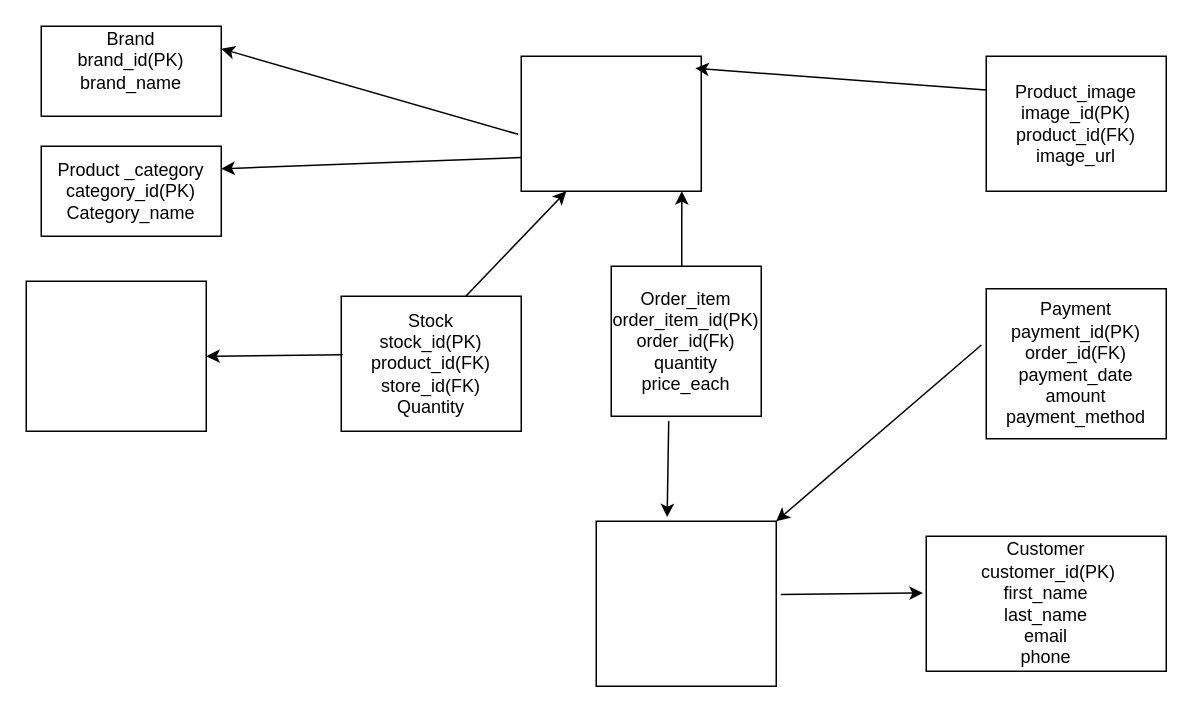
This 1193x713 diagram has some shape labels left out. The centre of each missing label's shape, as x and y in pixels:
"Orders order_id(PK) customer_id(FK) order_date total_amount" goes at point 685,603.
"Product Product _id(PK) name brand_id(Fk) category_id(FK) base_price" goes at point 610,123.
"Store store_id(PK) store_name location" goes at point 115,355.
